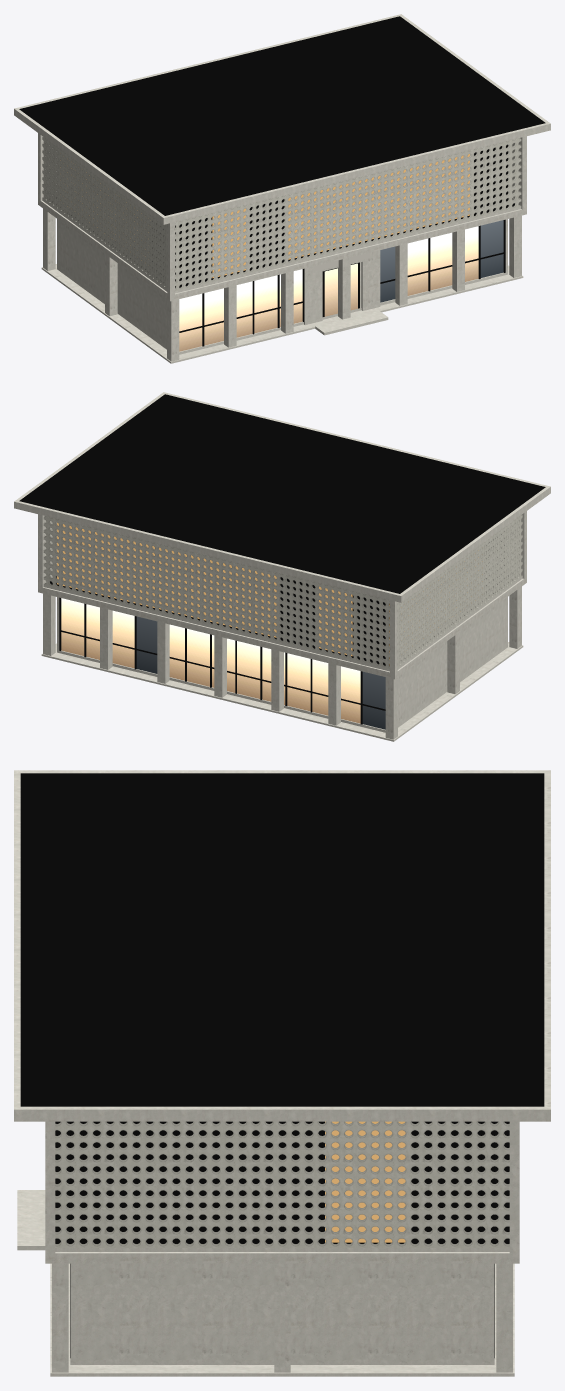
Rendered from campus_pavilion.glb.
3 views of the same model, one above another, from view 1: azimuth 30°, elevation 25°; view 2: azimuth 150°, elevation 25°; view 3: azimuth 270°, elevation 25° (orthographic). The views are drawn at different scales.
Parts seen in each view (by area): view 1: pav_dark, pav_conc, pav_screen, pav_glass; view 2: pav_dark, pav_screen, pav_conc, pav_glass; view 3: pav_dark, pav_conc, pav_screen.
Boxes of the visible parts, box(x1,y1,x2,y2) form: pav_dark: box(19, 16, 545, 346); pav_conc: box(14, 14, 550, 363); pav_screen: box(42, 137, 521, 291); pav_glass: box(179, 220, 503, 351); pav_dark: box(19, 394, 545, 724); pav_screen: box(43, 515, 522, 669); pav_conc: box(14, 392, 550, 741); pav_glass: box(61, 598, 385, 729); pav_dark: box(20, 773, 544, 1357); pav_conc: box(14, 770, 550, 1376); pav_screen: box(55, 1121, 509, 1247).
Size of the model in its own units: 24.2 by 9.4 by 16.2.
5 materials, 3 textured.
